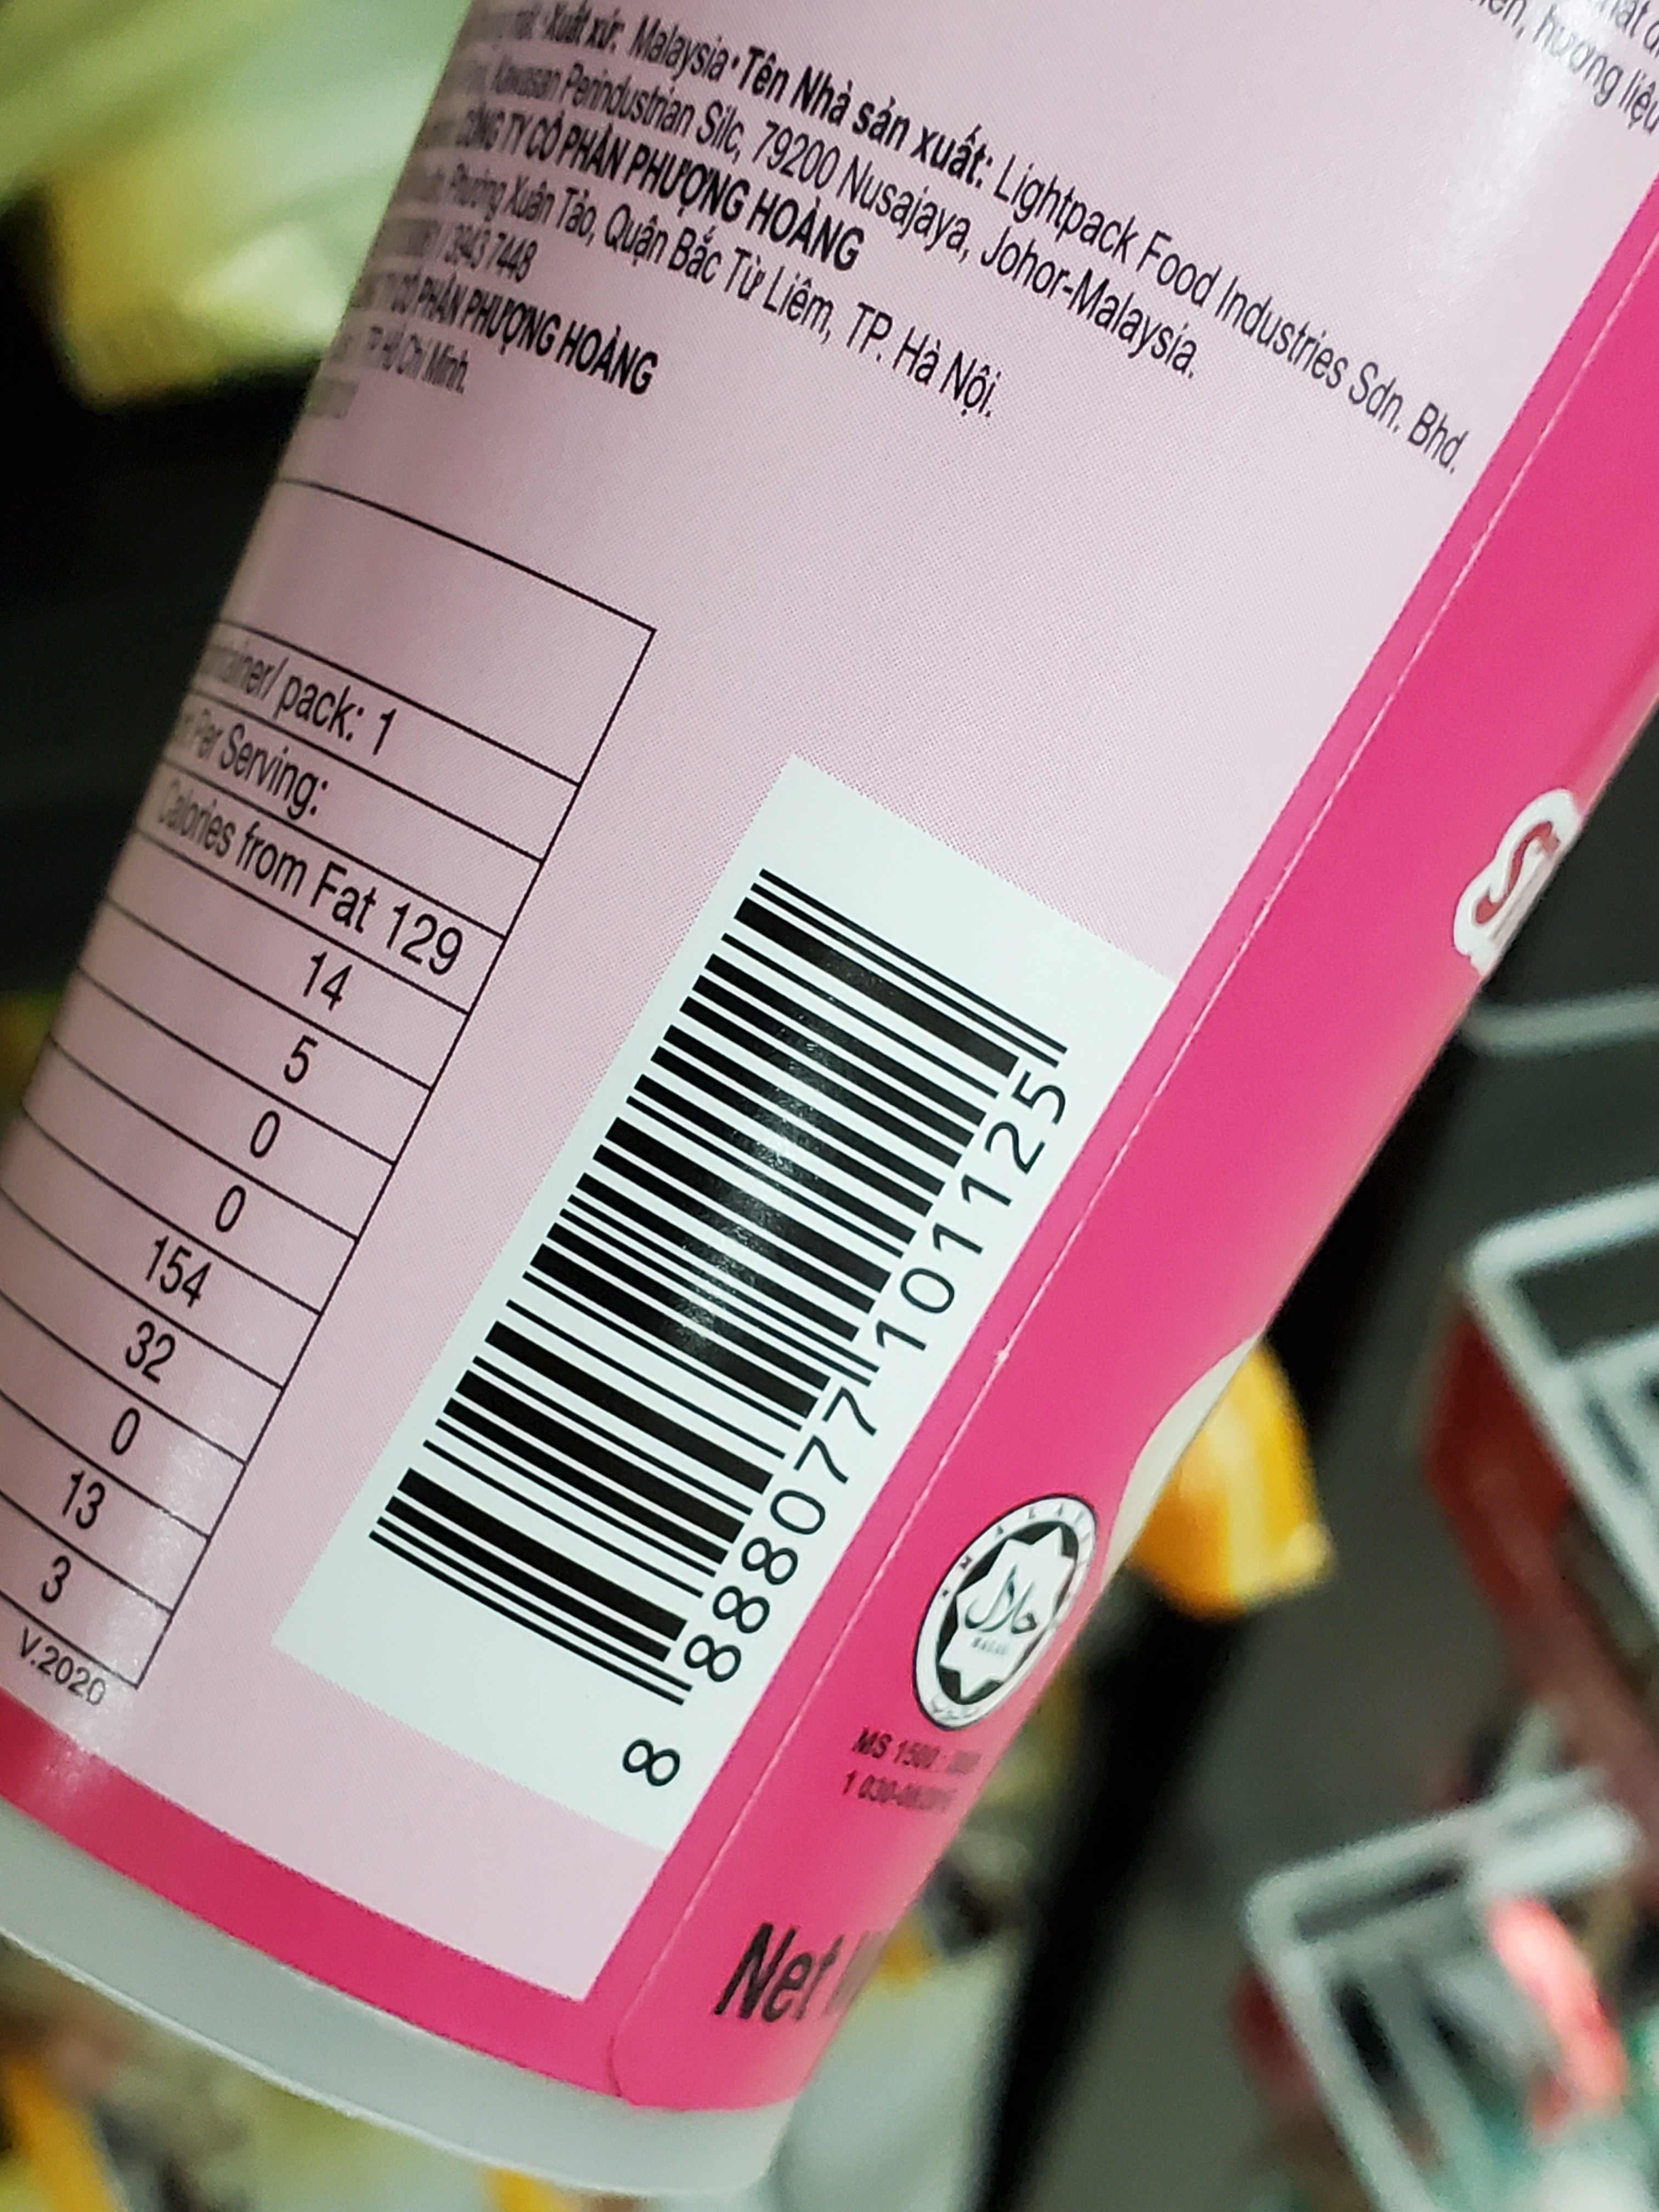barcode: (307, 850, 1096, 1815)
